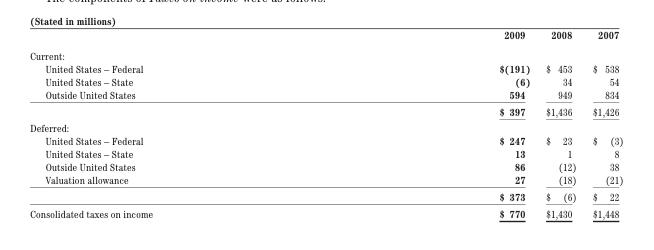table: (29, 28, 622, 218)
table column: (29, 28, 325, 218), (325, 28, 537, 218), (537, 28, 583, 218), (583, 28, 622, 218)
table column header: (29, 28, 622, 45)
table projected row header: (29, 45, 622, 61), (29, 119, 622, 134)
table row: (29, 28, 622, 45), (29, 102, 622, 119), (29, 187, 622, 204), (29, 45, 622, 61), (29, 87, 622, 102), (29, 119, 622, 134), (29, 172, 622, 187), (29, 204, 622, 218), (29, 61, 622, 74), (29, 74, 622, 87), (29, 134, 622, 147), (29, 159, 622, 172), (29, 147, 622, 159)
